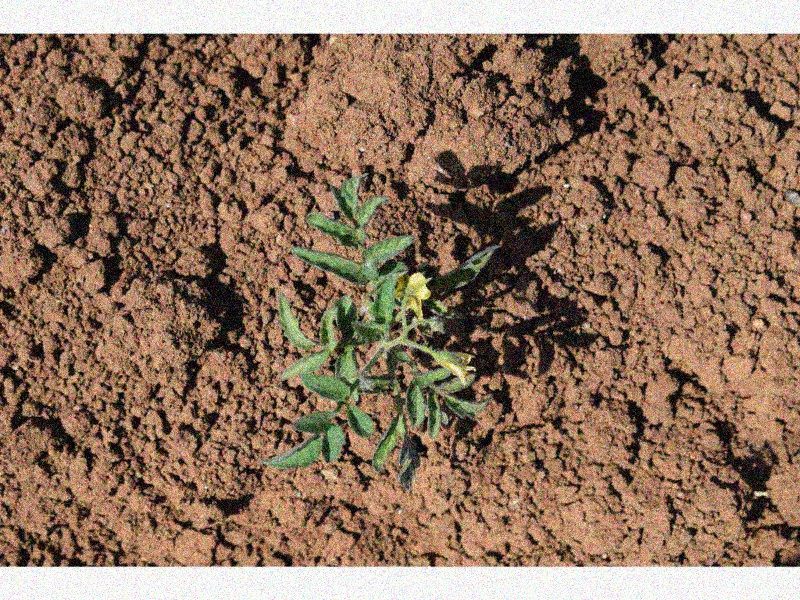tomato: (264, 170, 501, 483)
